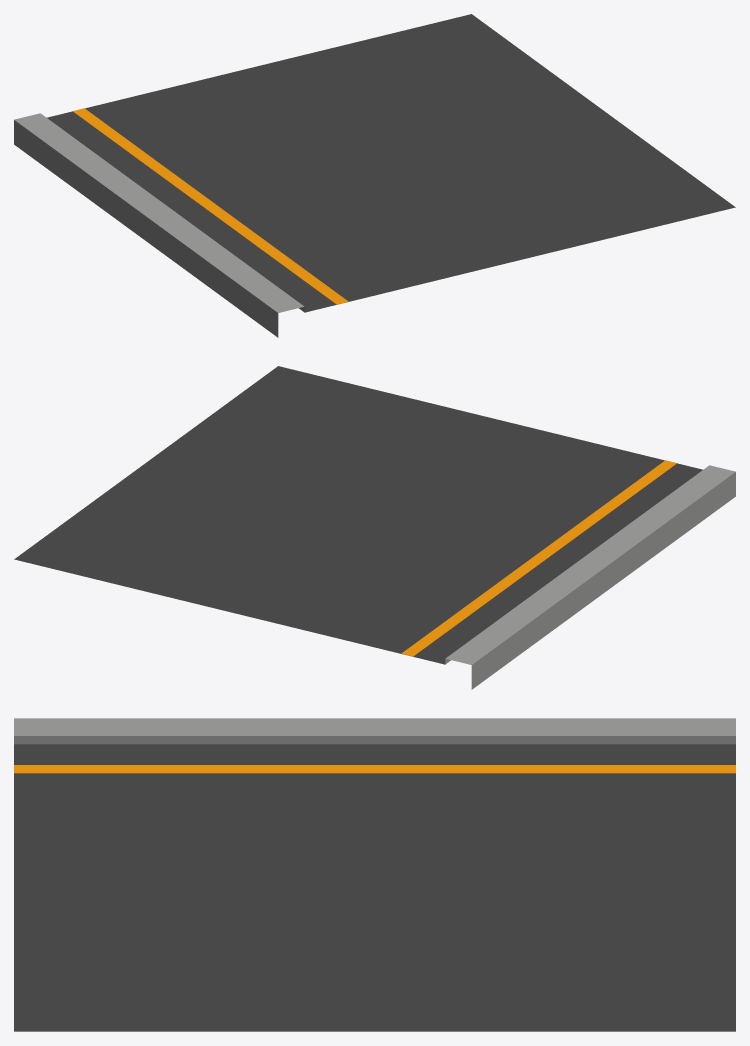
The model's file is ParkingRoad_A_4.fbx.
3 views of the same model, one above another, from view 1: azimuth 30°, elevation 25°; view 2: azimuth 150°, elevation 25°; view 3: azimuth 270°, elevation 25° (orthographic). The views are drawn at different scales.
Visible parts, largest first — view 1: ParkingRoad_A_4; view 2: ParkingRoad_A_4; view 3: ParkingRoad_A_4.
Boxes of the visible parts, x1=… form: ParkingRoad_A_4: x1=14, y1=14, x2=735, y2=337; ParkingRoad_A_4: x1=14, y1=366, x2=735, y2=689; ParkingRoad_A_4: x1=14, y1=718, x2=735, y2=1031.
Bounding box in the file's own units: 800 × 41.48 × 800.
